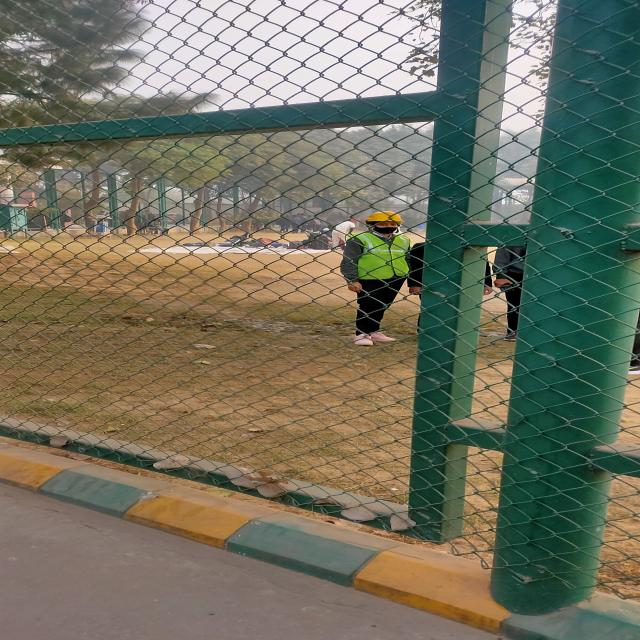safe: (339, 212, 410, 344)
